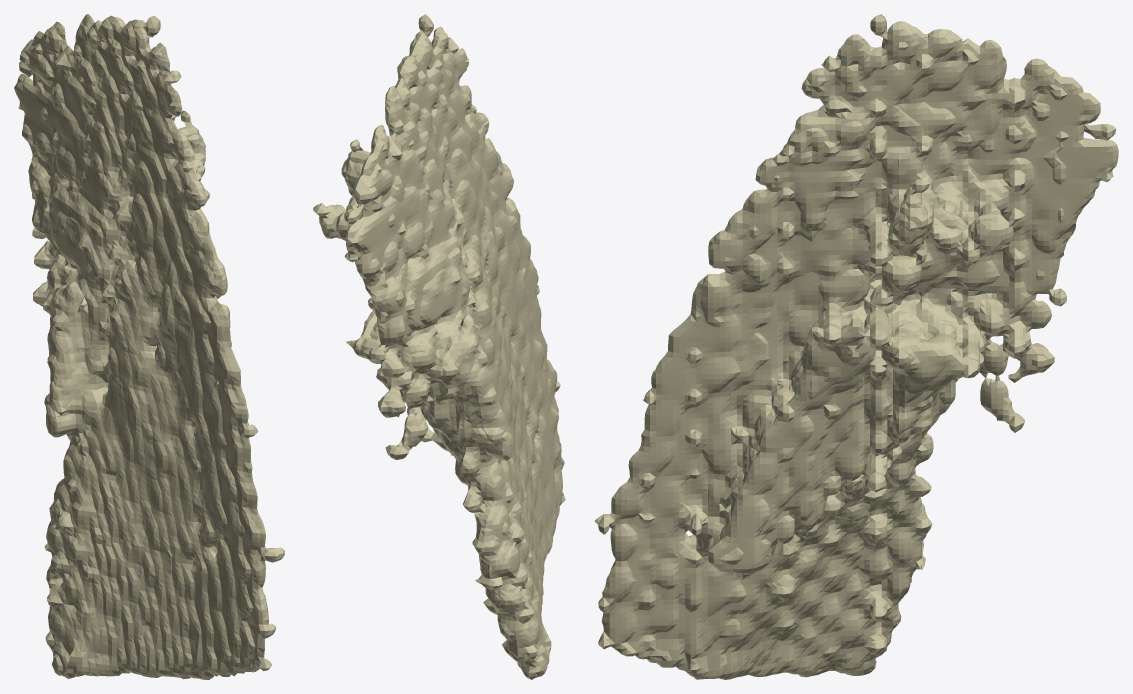
Rendered from raw.glb.
The picture shows the model from 3 angles, left to right: view 1: azimuth 30°, elevation 25°; view 2: azimuth 150°, elevation 25°; view 3: azimuth 270°, elevation 25°; orthographic projection. The views are drawn at different scales.
Visible parts, largest first — view 1: world; view 2: world; view 3: world.
Boxes of the visible parts, bbox=[...] form: world: bbox=[14, 14, 284, 679]; world: bbox=[313, 14, 565, 679]; world: bbox=[594, 14, 1118, 679].
Size of the model in its own units: 1.2 by 4.13 by 2.75.
